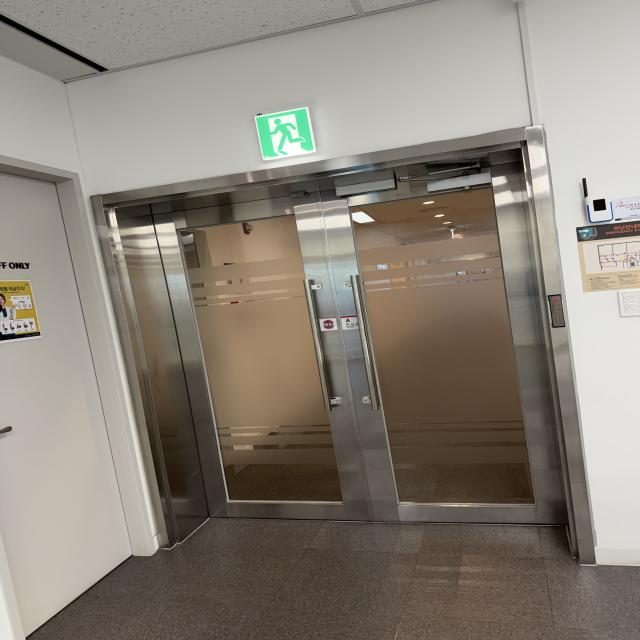rear_door: (144, 148, 569, 533)
